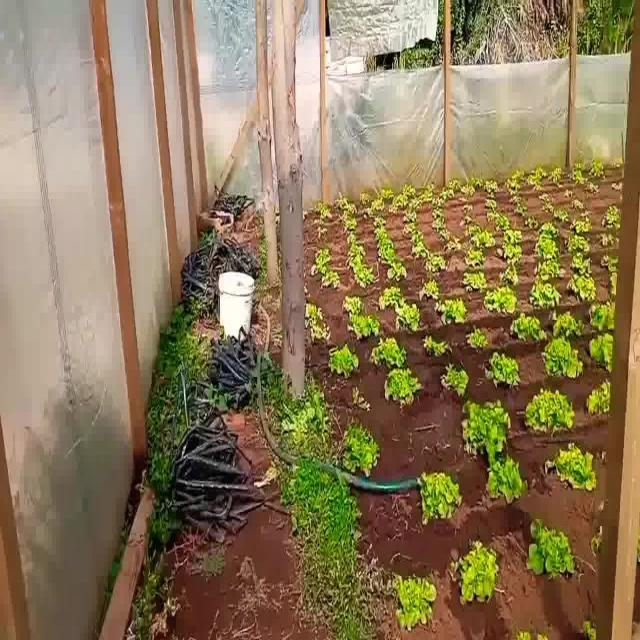Lettuce: (460, 398, 511, 456), (527, 518, 575, 577), (392, 573, 438, 632), (458, 542, 500, 603), (418, 468, 465, 522), (548, 442, 597, 492), (484, 455, 528, 507), (524, 388, 576, 432), (342, 423, 381, 477), (543, 337, 584, 379), (384, 368, 422, 403), (486, 352, 521, 388), (369, 337, 406, 368), (328, 344, 360, 378), (304, 302, 330, 343), (440, 363, 470, 398), (588, 333, 614, 373), (509, 313, 544, 342), (483, 286, 518, 314), (567, 272, 597, 302), (530, 281, 561, 309), (552, 311, 584, 338), (436, 298, 468, 325), (347, 313, 380, 339), (588, 300, 614, 332), (586, 380, 610, 414), (395, 303, 421, 332), (420, 334, 453, 356), (378, 286, 407, 310), (464, 326, 490, 351), (534, 259, 561, 282), (570, 251, 594, 276), (534, 237, 560, 260), (461, 271, 487, 292), (602, 203, 621, 231), (499, 242, 523, 264), (312, 248, 332, 274), (470, 230, 496, 249), (386, 259, 407, 282), (567, 234, 591, 254), (347, 244, 367, 268), (419, 279, 440, 301), (354, 266, 375, 288), (499, 264, 519, 287), (342, 295, 364, 315), (465, 247, 486, 267), (378, 239, 395, 262), (410, 241, 430, 260), (322, 270, 341, 288), (426, 255, 446, 272), (571, 218, 592, 234), (529, 167, 546, 186), (503, 229, 523, 245), (550, 167, 566, 185), (540, 222, 559, 237), (524, 213, 540, 230), (608, 272, 618, 299), (590, 158, 604, 177), (342, 216, 358, 232), (317, 203, 333, 219), (447, 177, 462, 193), (404, 222, 418, 239), (483, 179, 500, 193), (444, 238, 462, 251), (572, 163, 585, 181), (496, 215, 511, 230), (394, 195, 409, 210), (419, 189, 434, 204), (512, 169, 527, 184), (373, 226, 387, 242), (461, 184, 477, 198), (469, 176, 485, 190), (505, 180, 521, 194), (372, 198, 387, 212), (379, 187, 394, 201), (336, 193, 349, 209), (512, 203, 528, 216), (554, 208, 568, 222), (343, 203, 357, 217), (486, 208, 500, 222), (360, 190, 372, 206), (433, 216, 446, 230), (402, 184, 416, 197), (585, 181, 599, 194), (430, 207, 445, 219), (439, 188, 453, 200), (572, 198, 584, 212), (460, 215, 472, 228), (372, 216, 387, 226), (404, 210, 416, 222), (510, 195, 524, 205), (539, 191, 553, 201), (461, 202, 472, 214), (348, 232, 357, 246), (542, 202, 554, 212), (564, 188, 576, 198), (580, 210, 592, 219), (484, 199, 496, 208)
